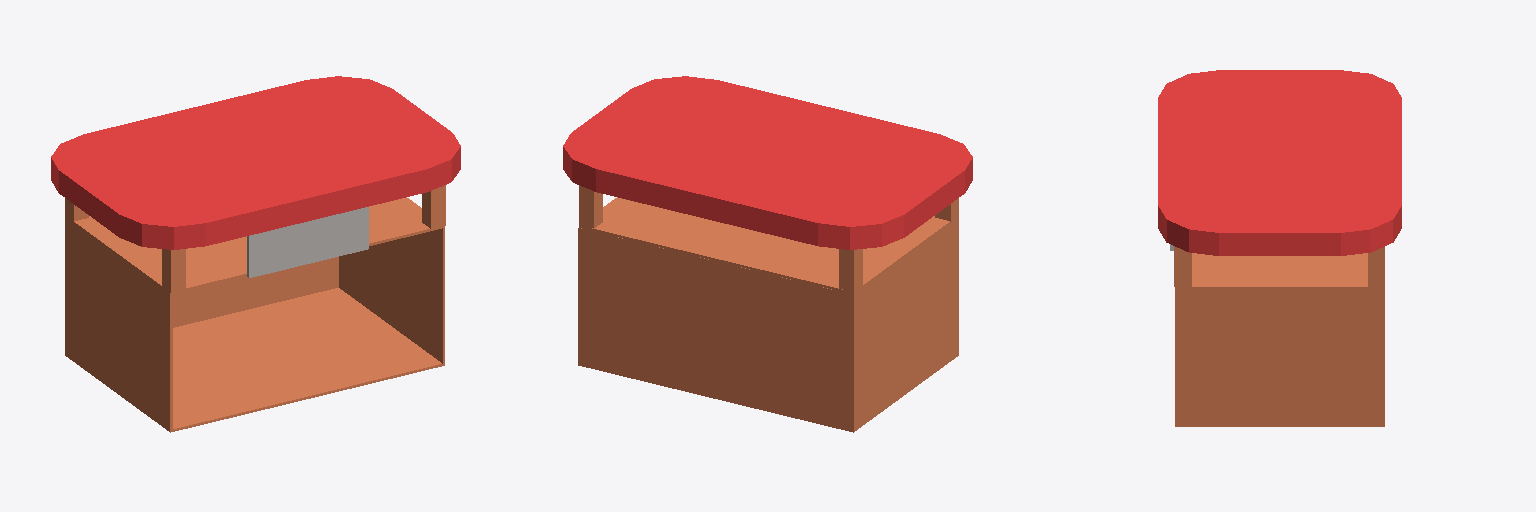
3 renders of one model, left to right at view 1: azimuth 30°, elevation 25°; view 2: azimuth 150°, elevation 25°; view 3: azimuth 270°, elevation 25°, orthographic.
Parts seen in each view (by area): view 1: pasted__pasted__pCube1 pasted__group3 group7, pCube1, pasted__pCube1 group, pasted__pasted__pCube1 pasted__group group1, pasted__pCube1 group3, pasted__pasted__pasted__pCube1 pasted__pasted__group pasted__gro, pCube3, pCube2, pasted__pCube2 group5; view 2: pasted__pasted__pCube1 pasted__group3 group7, pasted__pasted__pasted__pCube1 pasted__pasted__group pasted__gro, pasted__pCube1 group, pasted__pCube1 group3, pasted__pCube2 group4, pasted__pasted__pCube2 pasted__group5 group6; view 3: pasted__pasted__pCube1 pasted__group3 group7, pasted__pasted__pCube1 pasted__group group1, pasted__pCube1 group3, pasted__pCube2 group5, pasted__pasted__pCube2 pasted__group5 group6.
Part boxes in pixels (x1,y1,x2,y2): pasted__pasted__pCube1 pasted__group3 group7: (51, 76, 460, 249); pCube1: (172, 288, 442, 431); pasted__pCube1 group: (65, 218, 172, 432); pasted__pasted__pCube1 pasted__group group1: (339, 228, 444, 365); pasted__pCube1 group3: (65, 197, 444, 294); pasted__pasted__pasted__pCube1 pasted__pasted__group pasted__gro: (173, 257, 338, 327); pCube3: (247, 207, 368, 277); pCube2: (162, 249, 185, 292); pasted__pCube2 group5: (422, 185, 445, 228); pasted__pasted__pCube1 pasted__group3 group7: (563, 76, 972, 249); pasted__pasted__pasted__pCube1 pasted__pasted__group pasted__gro: (578, 228, 852, 431); pasted__pCube1 group: (853, 218, 958, 432); pasted__pCube1 group3: (579, 197, 958, 294); pasted__pCube2 group4: (839, 249, 862, 291); pasted__pasted__pCube2 pasted__group5 group6: (579, 185, 602, 228); pasted__pasted__pCube1 pasted__group3 group7: (1158, 70, 1401, 255); pasted__pasted__pCube1 pasted__group group1: (1175, 289, 1382, 426); pasted__pCube1 group3: (1175, 253, 1384, 288); pasted__pCube2 group5: (1174, 246, 1191, 286); pasted__pasted__pCube2 pasted__group5 group6: (1368, 247, 1384, 286).
Size of the model in its own units: 21.95 by 13.13 by 13.86.
Materials: 3 (3 with a texture image).